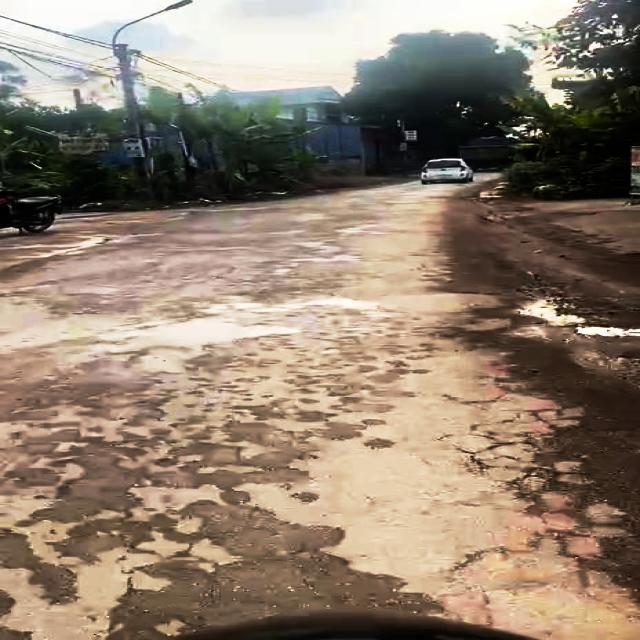pothole: (458, 410, 640, 592), (517, 294, 640, 339)
